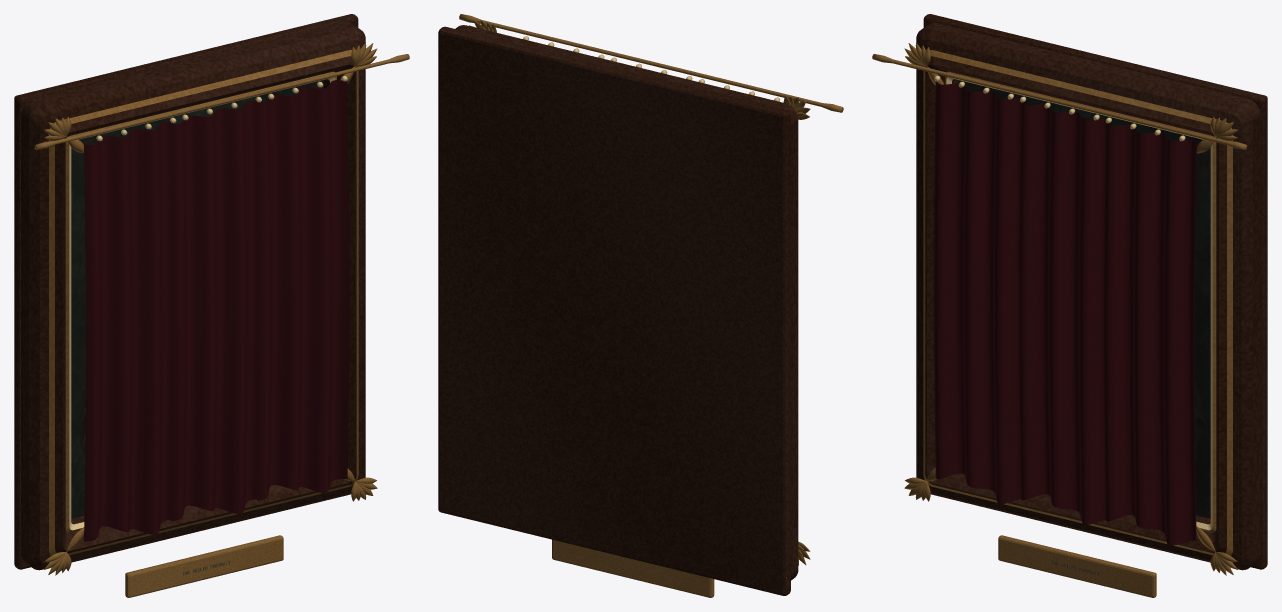
File: veiled-portrait.glb
3 views of the same model, side by side, from view 1: azimuth 30°, elevation 25°; view 2: azimuth 150°, elevation 25°; view 3: azimuth 330°, elevation 25° (orthographic). The views are drawn at different scales.
Parts seen in each view (by area): view 1: Portrait_Frame / Walnut, Portrait_veil_2, Portrait_veil_0, Portrait_veil_1, Portrait_Frame / Aged brass, Portrait painted canvas; view 2: Portrait_Frame / Walnut, Portrait_Frame / Aged brass; view 3: Portrait_Frame / Walnut, Portrait_veil_2, Portrait_veil_0, Portrait_veil_1, Portrait_Frame / Aged brass, Portrait painted canvas.
Part boxes in pixels (bbox=[...]): Portrait_Frame / Walnut: bbox=[14, 14, 365, 570]; Portrait_veil_2: bbox=[256, 80, 349, 500]; Portrait_veil_0: bbox=[84, 121, 174, 541]; Portrait_veil_1: bbox=[170, 101, 260, 521]; Portrait_Frame / Aged brass: bbox=[34, 42, 409, 597]; Portrait painted canvas: bbox=[71, 80, 323, 518]; Portrait_Frame / Walnut: bbox=[438, 25, 798, 595]; Portrait_Frame / Aged brass: bbox=[459, 14, 843, 597]; Portrait_Frame / Walnut: bbox=[916, 14, 1267, 570]; Portrait_veil_2: bbox=[1104, 123, 1196, 545]; Portrait_veil_0: bbox=[933, 81, 1026, 503]; Portrait_veil_1: bbox=[1018, 102, 1111, 524]; Portrait_Frame / Aged brass: bbox=[872, 42, 1247, 597]; Portrait painted canvas: bbox=[958, 80, 1210, 518].
Bounding box in the file's own units: 1.52 × 1.99 × 0.2875.
Materials: 6 (4 with a texture image).
